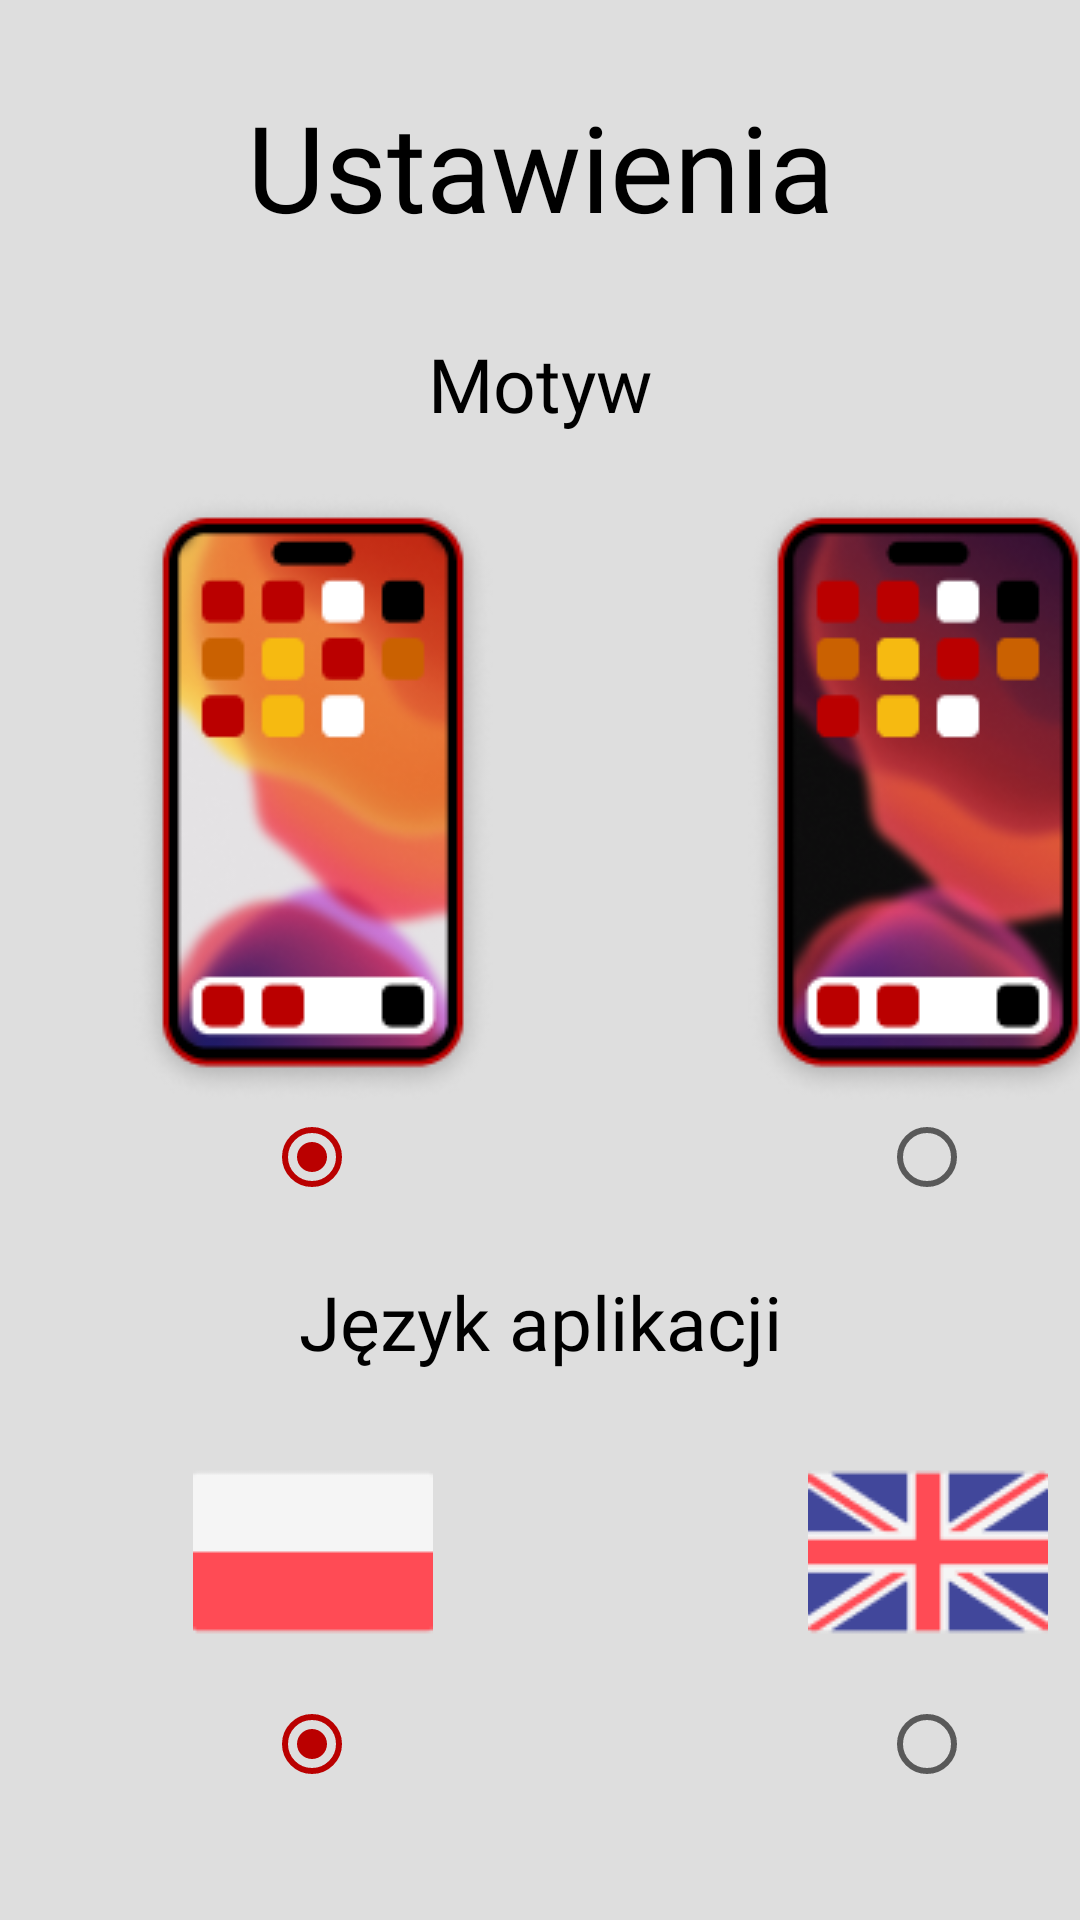

Locate icon controls on the screen. Image size 1080×1920, boxes as (x1, y1, x2, y2).
flagen: (808, 1471, 1048, 1633)
